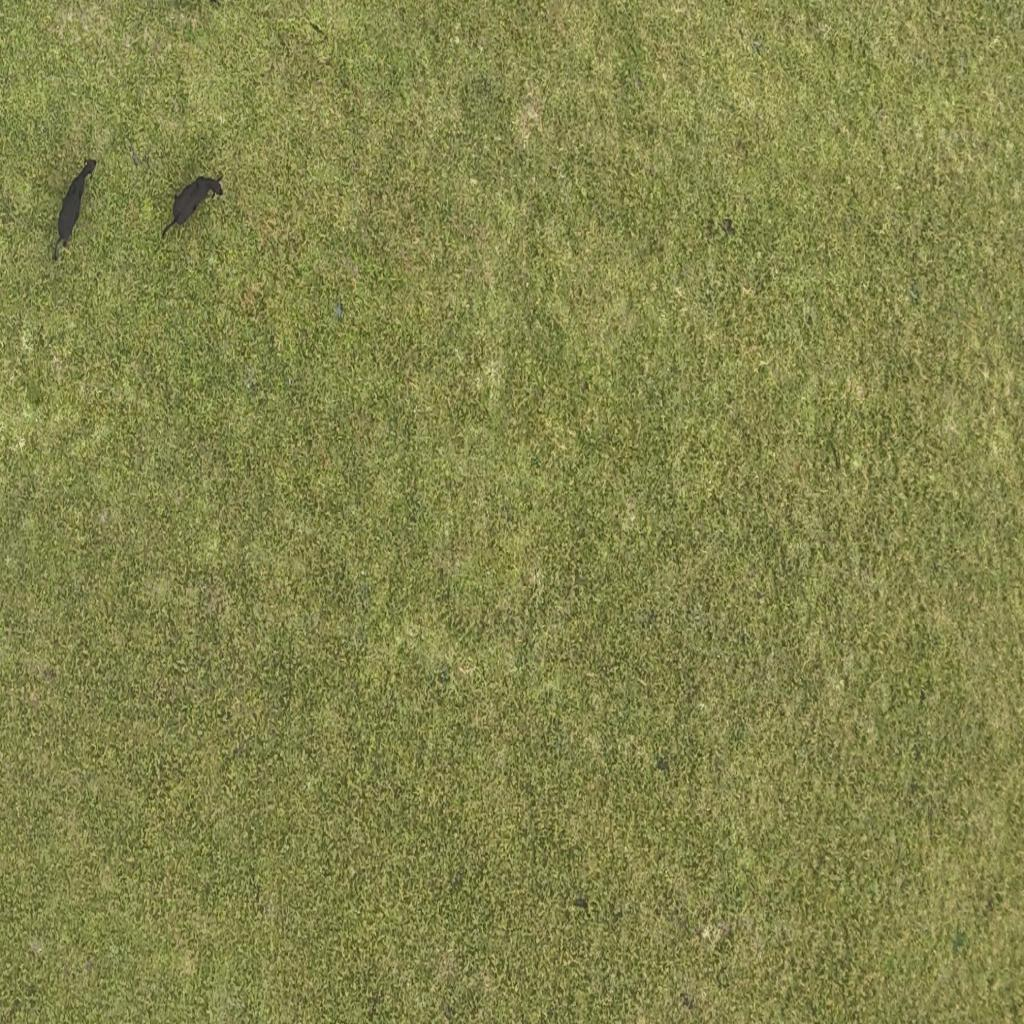cow: (50, 157, 100, 268), (161, 169, 226, 241)
